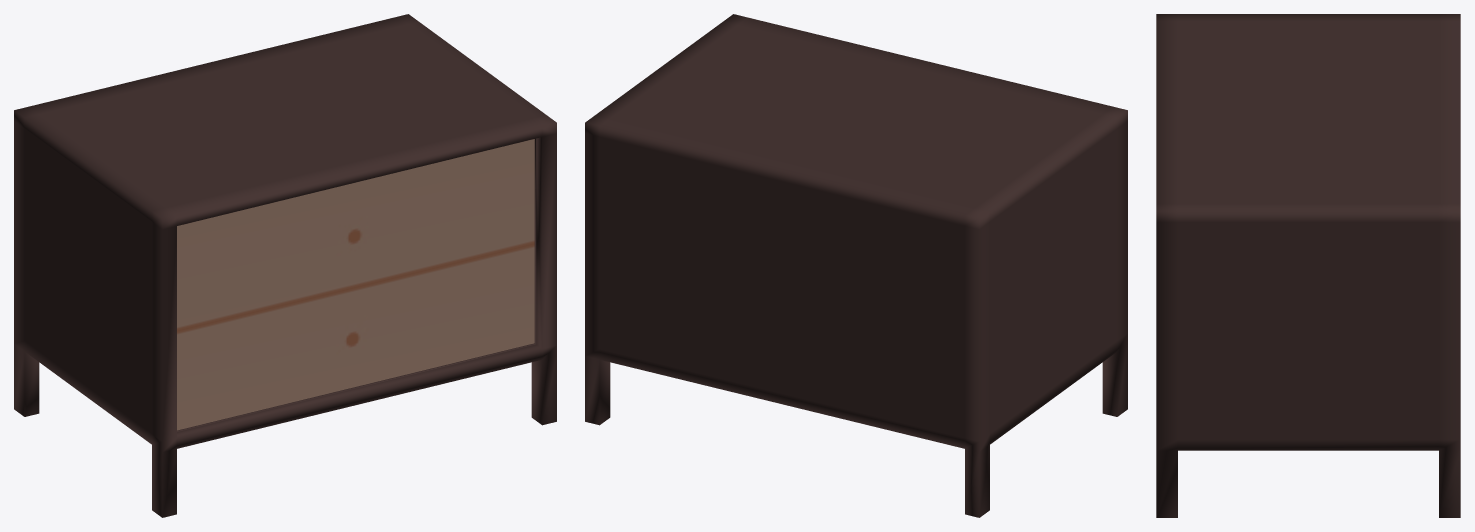
File: telephoneTable_geo.fbx
The picture shows the model from 3 angles, left to right: view 1: azimuth 30°, elevation 25°; view 2: azimuth 150°, elevation 25°; view 3: azimuth 270°, elevation 25°; orthographic projection. The views are drawn at different scales.
Parts seen in each view (by area): view 1: telephoneTable_geo; view 2: telephoneTable_geo; view 3: telephoneTable_geo.
Boxes of the visible parts, <box> form: telephoneTable_geo: <box>14,14,556,517</box>; telephoneTable_geo: <box>585,14,1127,517</box>; telephoneTable_geo: <box>1156,14,1460,517</box>.
Size of the model in its own units: 0.957 by 0.6938 by 0.6235.
1 material, 1 textured.
